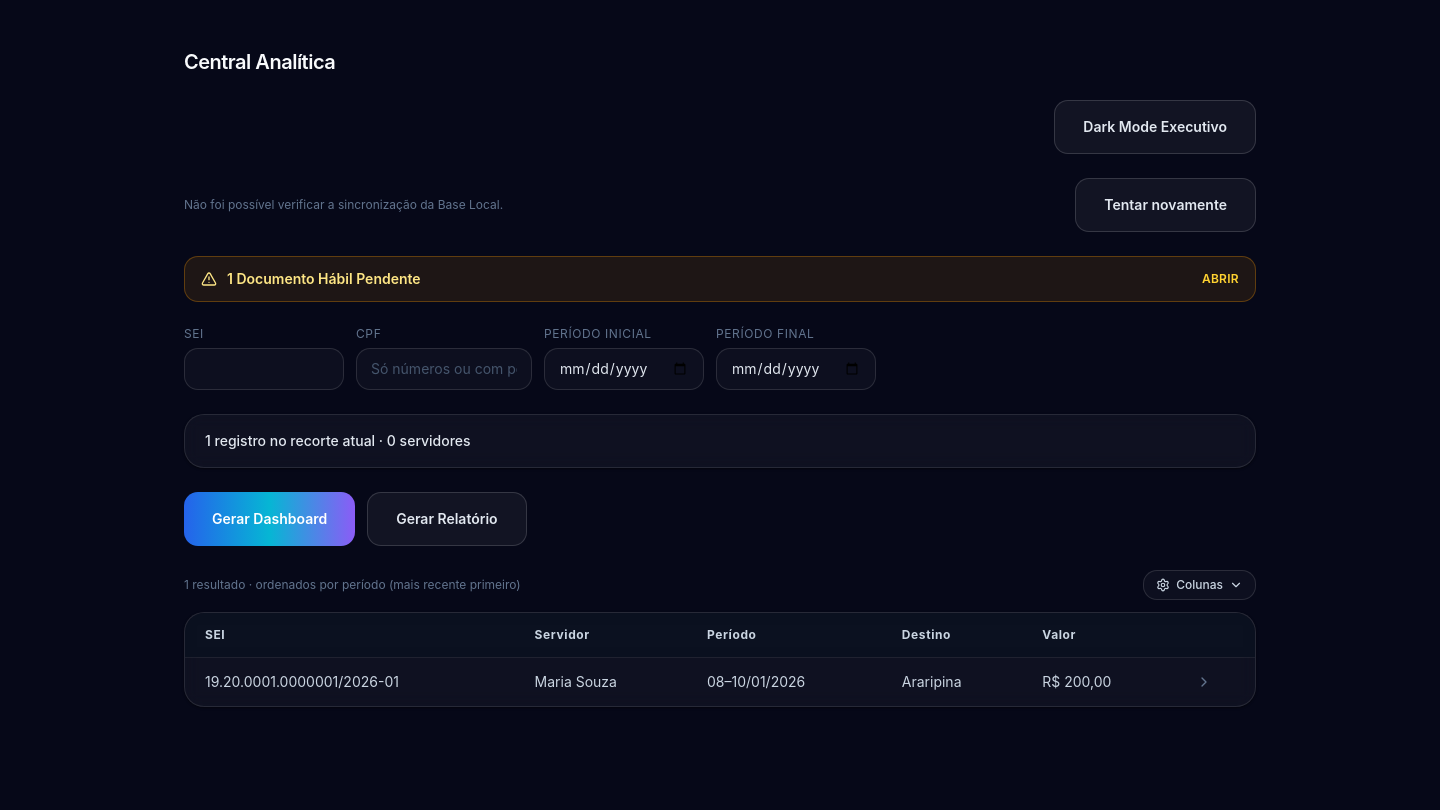
Test case: CentralAnalitica › 'Ver detalhes' em Documentos Hábeis Pendentes abre o painel de detalhamento com o foco no bloco de avisos
Click the button "1 Documento Hábil Pendente Abrir" at (329, 278), box x1=184 y1=256 x2=1256 y2=302
(page scrolled)
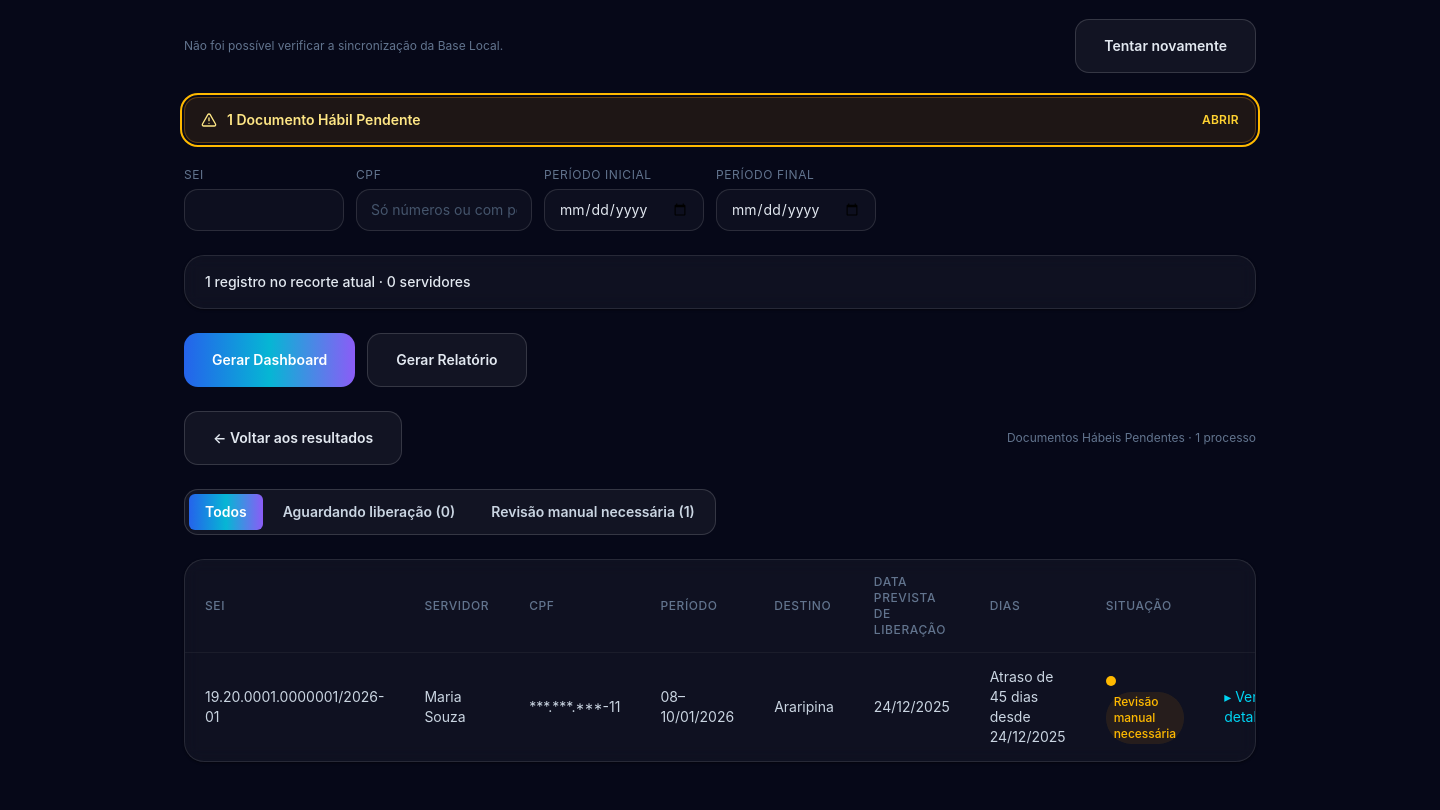
Click the row named "Ver detalhes do processo 19.20.0001.0000001/2026-01" at (743, 707), box x1=185 y1=652 x2=1301 y2=761
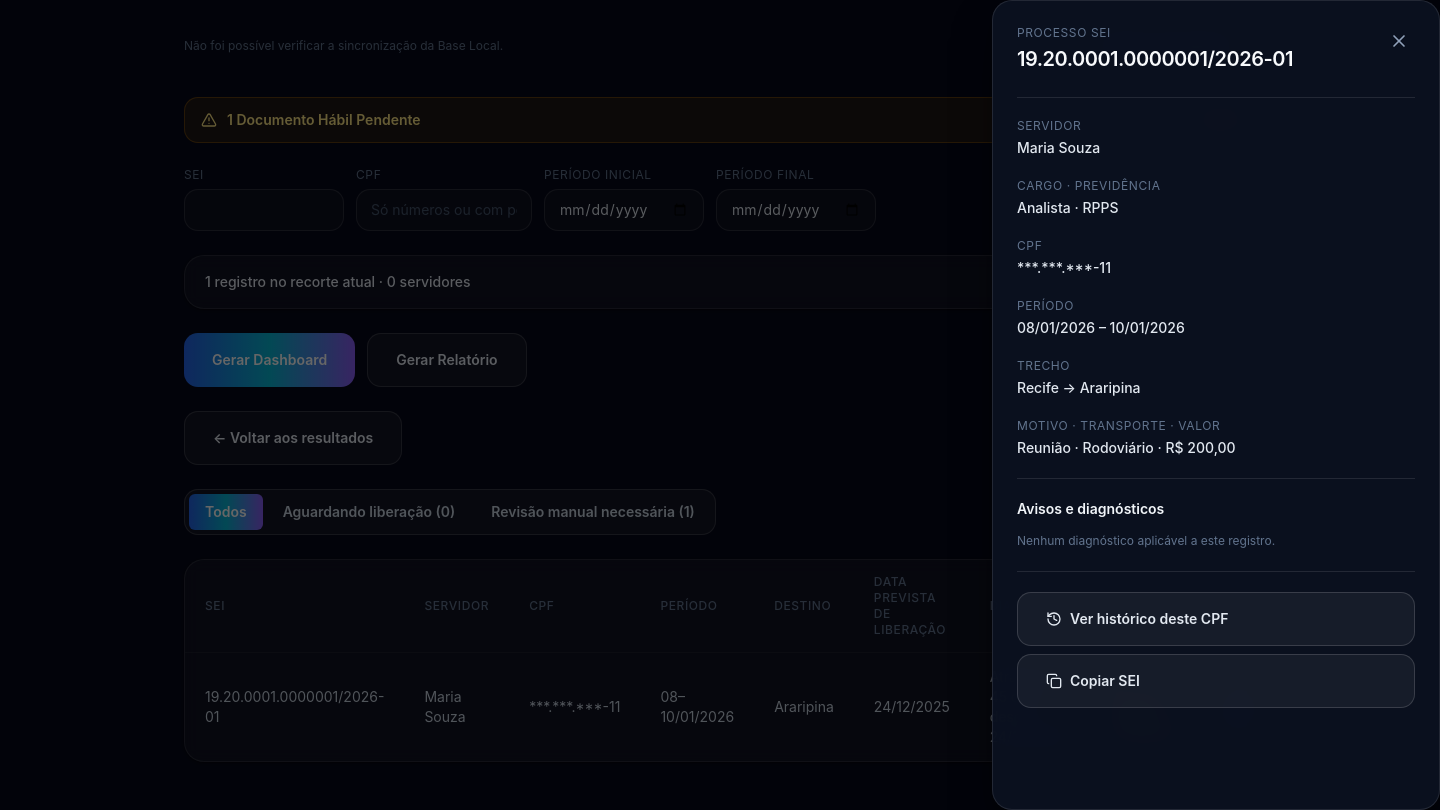
Expected: the heading "19.20.0001.0000001/2026-01" is shown, x1=1017 y1=45 x2=1293 y2=73
